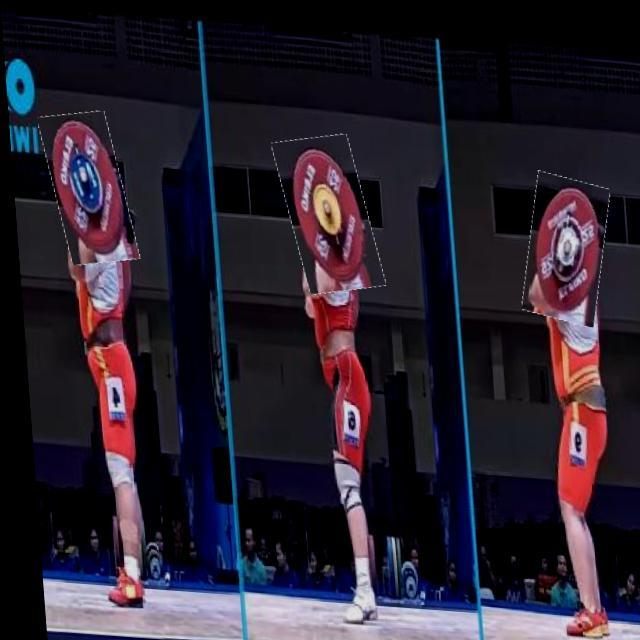barbell: (276, 128, 377, 292), (516, 165, 610, 318), (42, 110, 132, 267)
